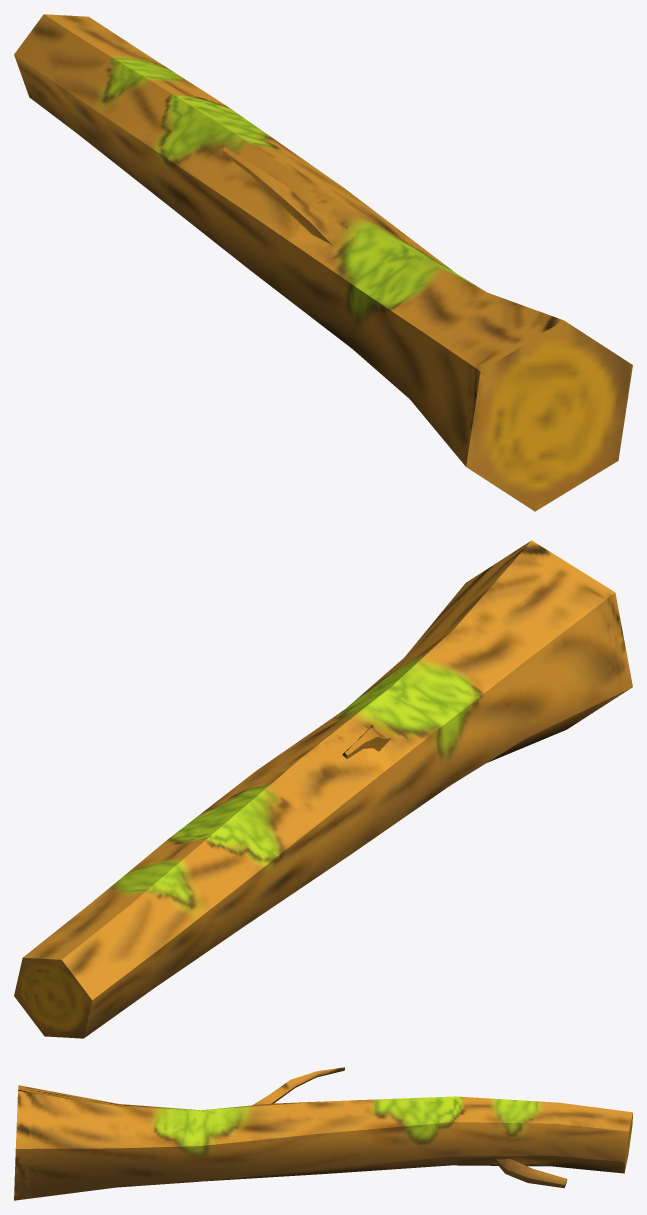
Rendered from branch.fbx.
3 views of the same model, one above another, from view 1: azimuth 30°, elevation 25°; view 2: azimuth 150°, elevation 25°; view 3: azimuth 270°, elevation 25° (orthographic). The views are drawn at different scales.
Visible parts, largest first — view 1: Branchy; view 2: Branchy; view 3: Branchy.
Part boxes in pixels (x1,y1,x2,y2): Branchy: [14, 14, 632, 511]; Branchy: [14, 540, 632, 1038]; Branchy: [14, 1067, 632, 1200].
Size of the model in its own units: 290 by 304 by 1501.
1 material, 1 textured.
